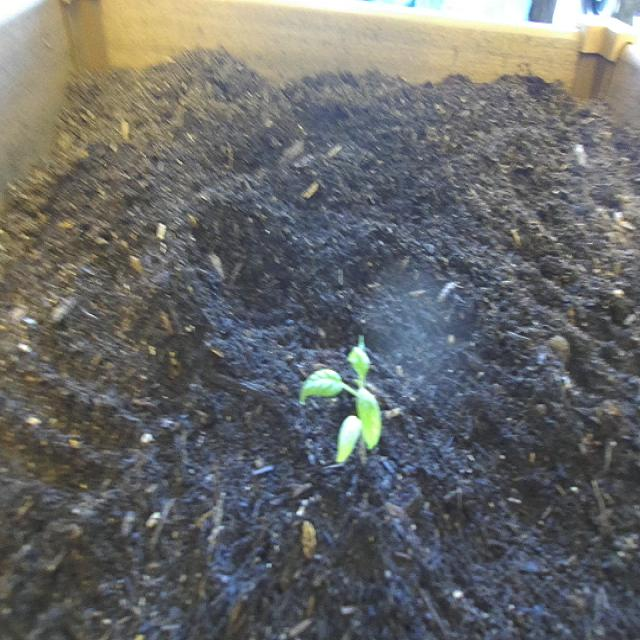Healthy: (296, 344, 388, 472)
